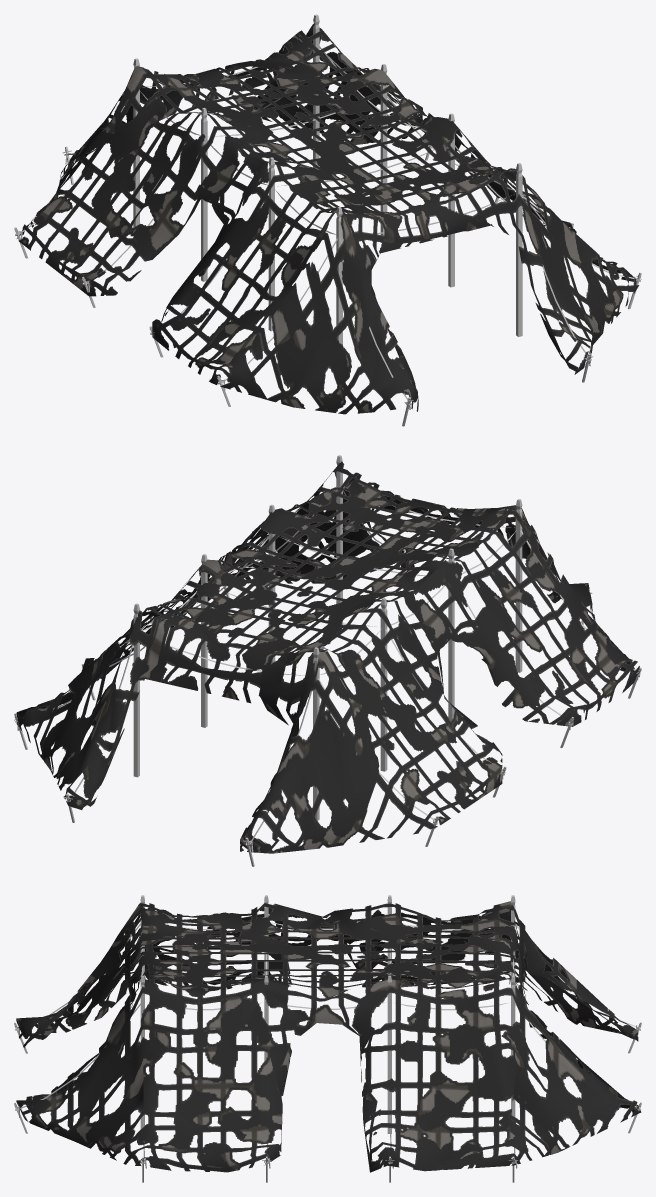
The model's file is MMEPV1_CamouflageNet.FBX.
3 renders of one model, top to bottom at view 1: azimuth 30°, elevation 25°; view 2: azimuth 150°, elevation 25°; view 3: azimuth 270°, elevation 25°, orthographic. The views are drawn at different scales.
Visible parts, largest first — view 1: MMEPV1_CamouflageNet; view 2: MMEPV1_CamouflageNet; view 3: MMEPV1_CamouflageNet.
Part boxes in pixels (x1,y1,x2,y2): MMEPV1_CamouflageNet: (14, 14, 641, 426); MMEPV1_CamouflageNet: (14, 455, 641, 866); MMEPV1_CamouflageNet: (14, 895, 641, 1182).
Size of the model in its own units: 14935 by 20979 by 5785.
